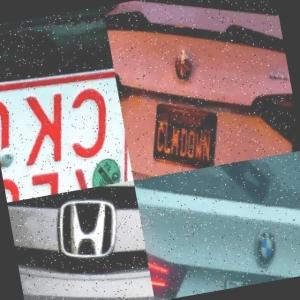Plate: (0, 64, 133, 203), (148, 90, 227, 173), (213, 257, 297, 291)
